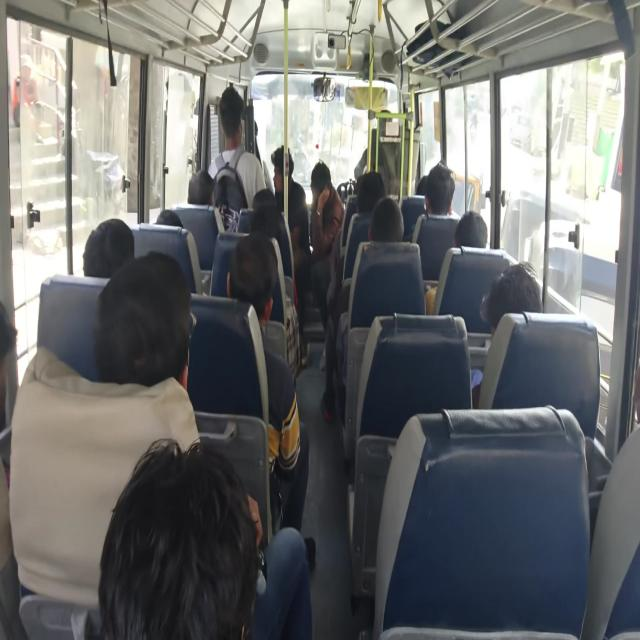person: (97, 436, 312, 639), (226, 232, 310, 538), (321, 196, 404, 422), (93, 250, 192, 390), (470, 260, 544, 407), (208, 86, 266, 210), (425, 210, 488, 314), (270, 144, 310, 266), (480, 260, 543, 335), (410, 163, 459, 242), (309, 160, 344, 259), (82, 217, 135, 278), (423, 163, 455, 216), (368, 196, 404, 242), (354, 170, 386, 215), (454, 210, 488, 248), (187, 169, 215, 205)
